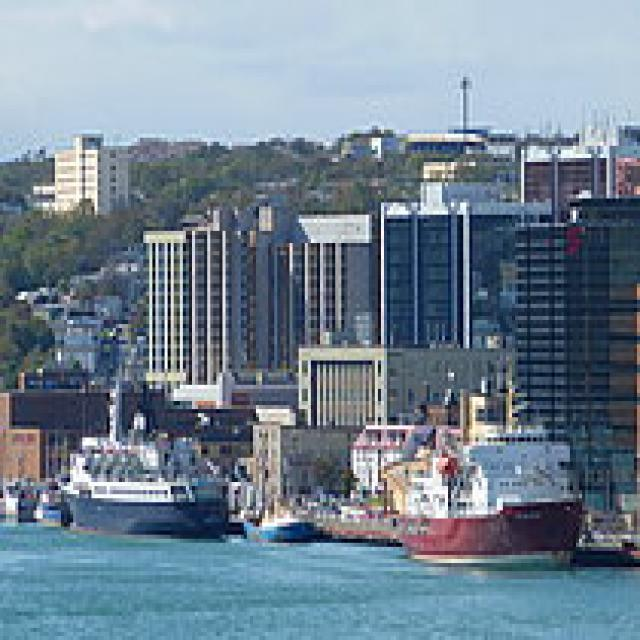Ship: (400, 418, 592, 572)
